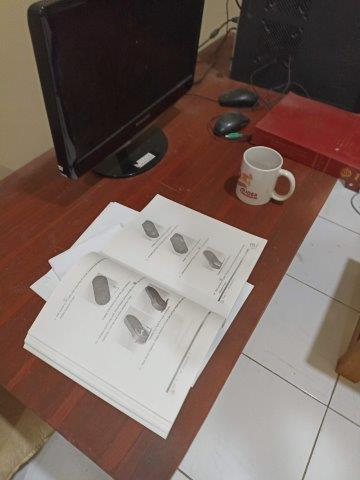kertas: (23, 193, 268, 438)
